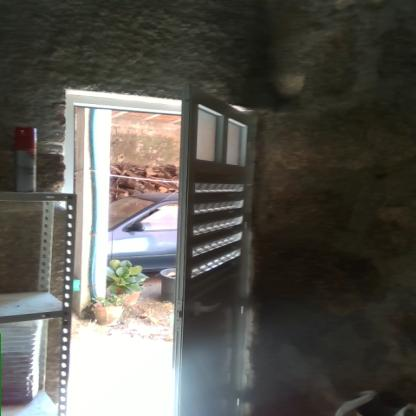semi: (42, 77, 273, 416)
